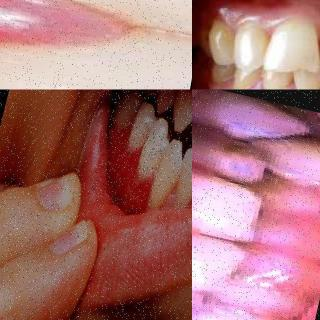Gum Swelling: (0, 0, 115, 90)
maligned: (153, 137, 186, 207)
